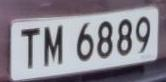6: (75, 17, 97, 69)
8: (114, 15, 135, 61), (95, 17, 115, 65)
9: (133, 12, 154, 61)
M: (41, 21, 68, 72)
T: (18, 23, 43, 75)
